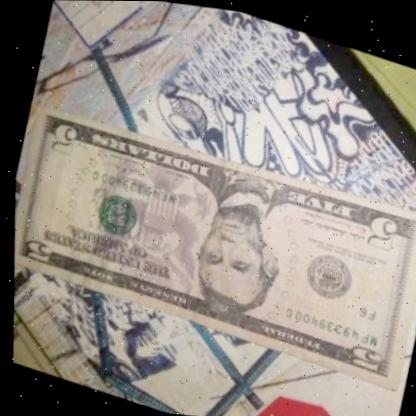five-front: (2, 91, 416, 389)
